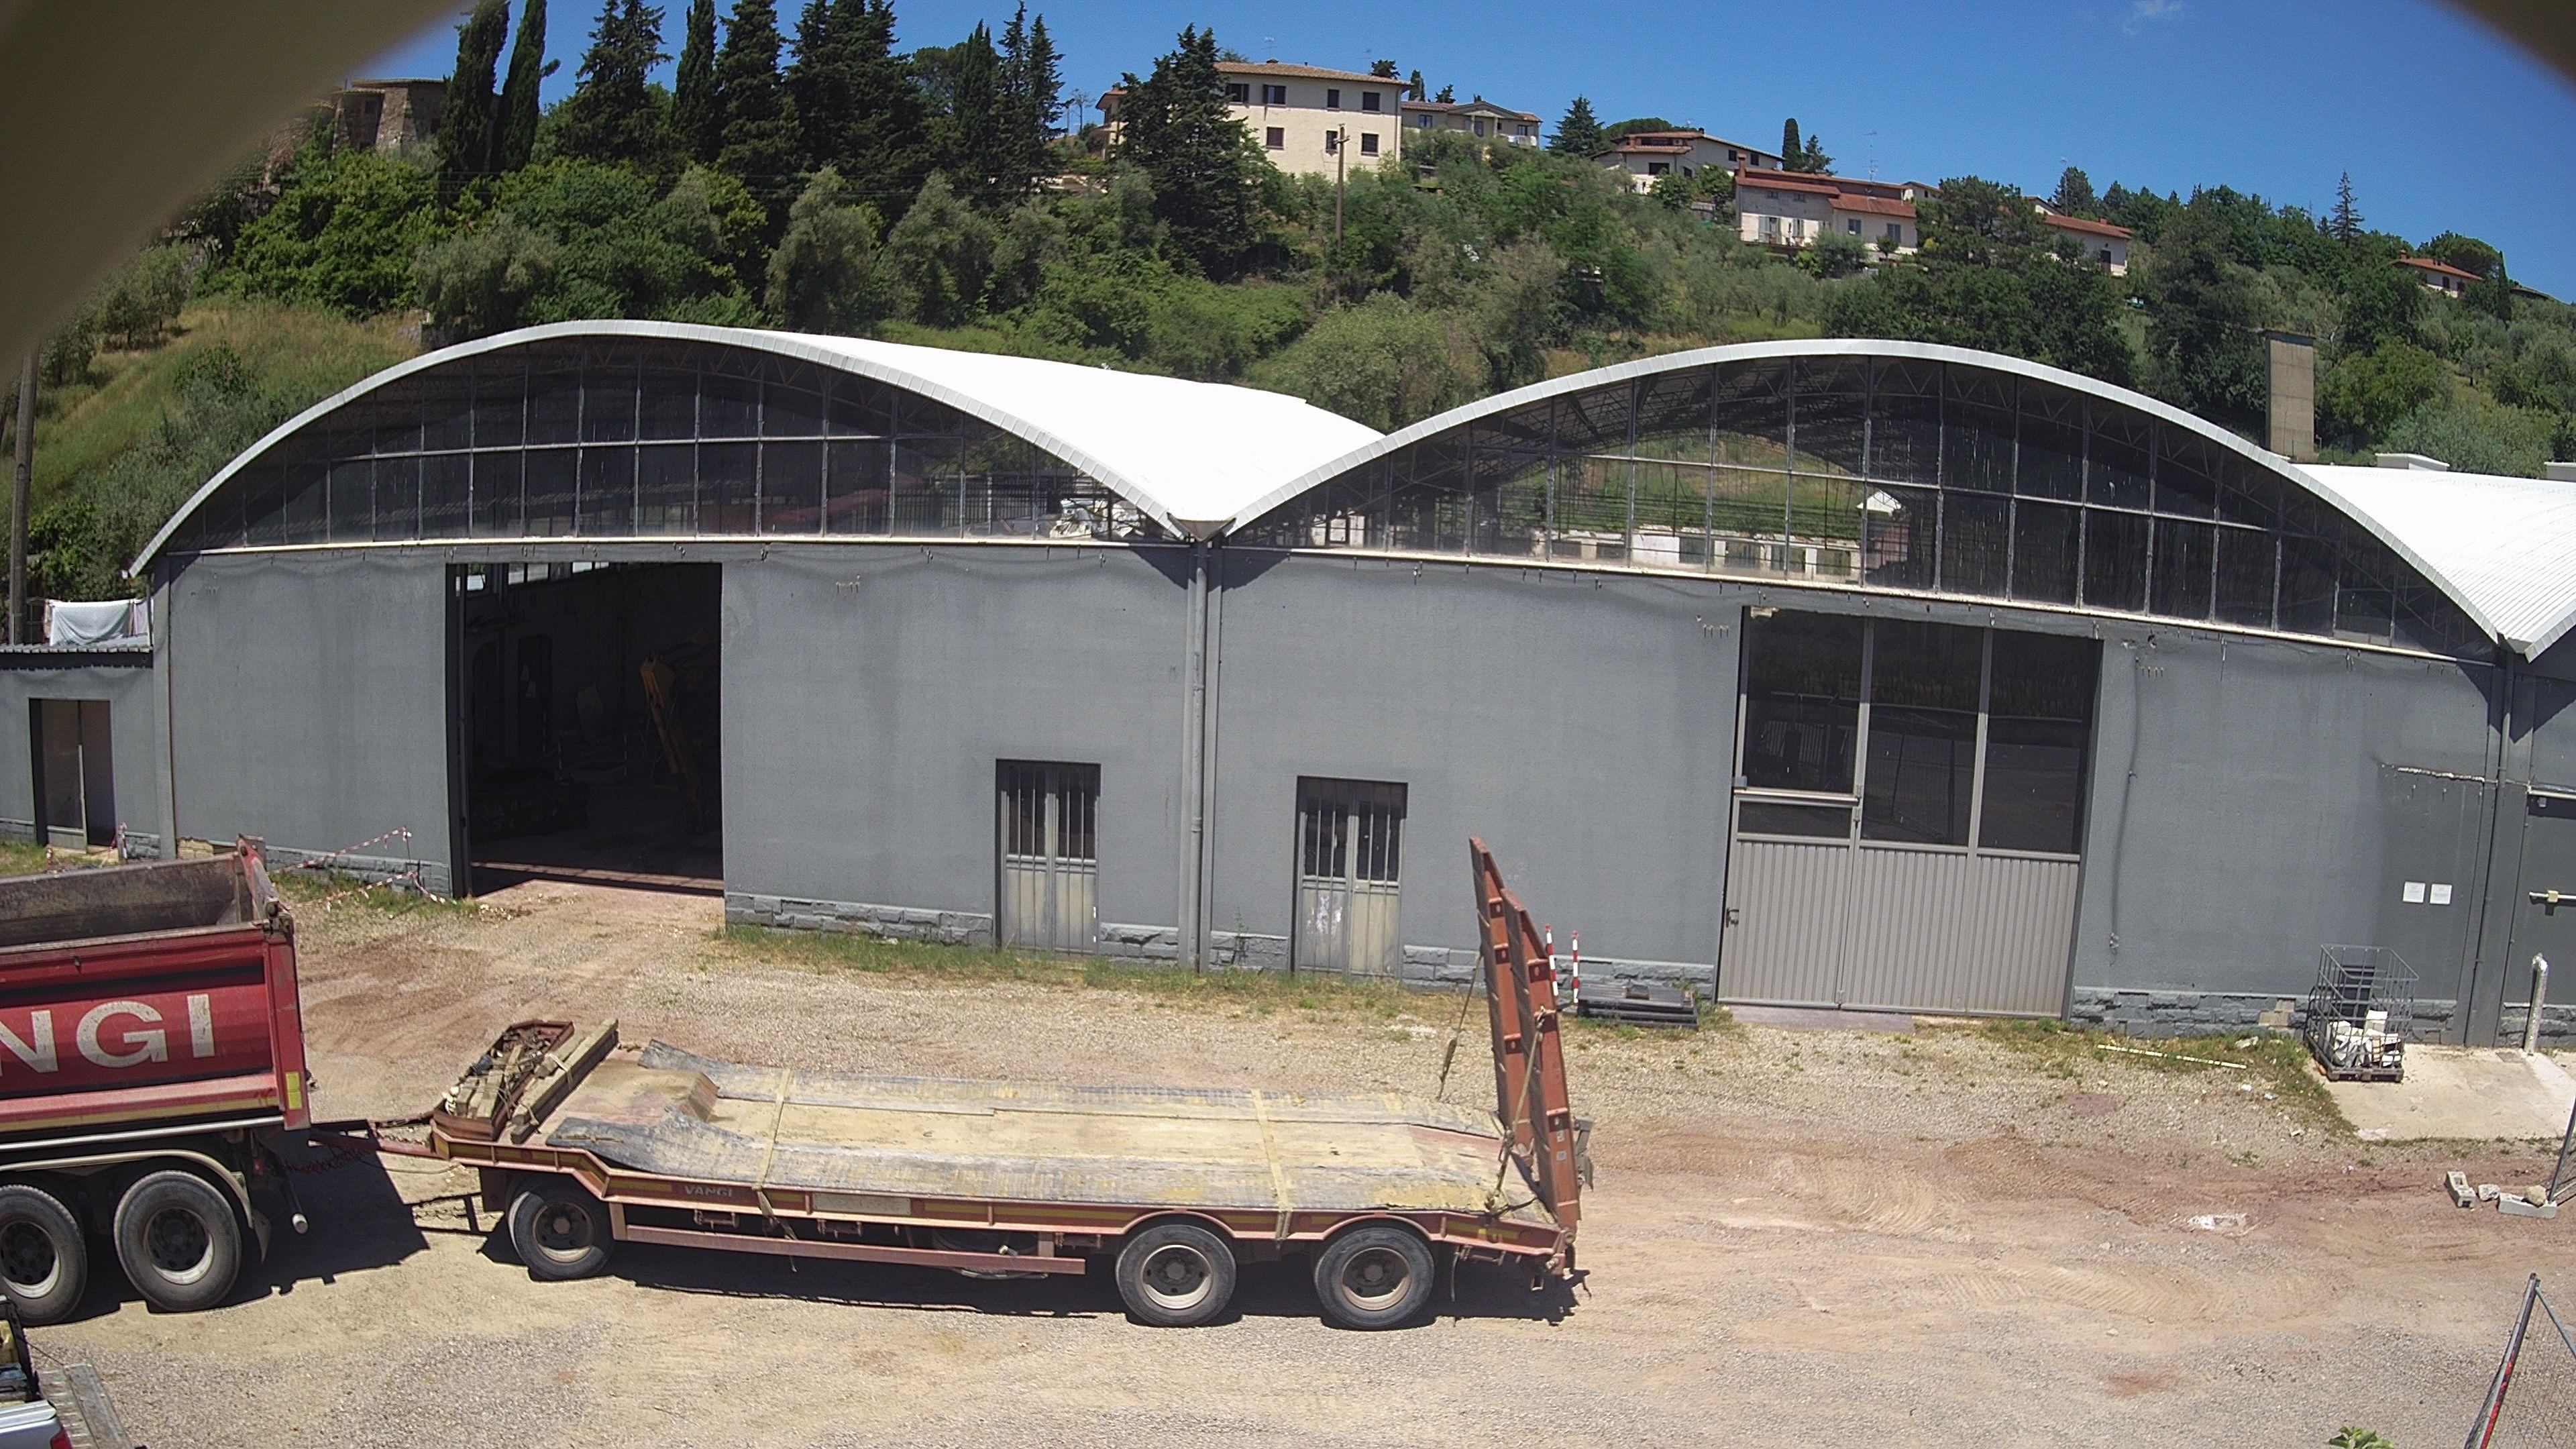Trucks: (0, 828, 315, 1329)
excavator: (642, 642, 724, 840)
